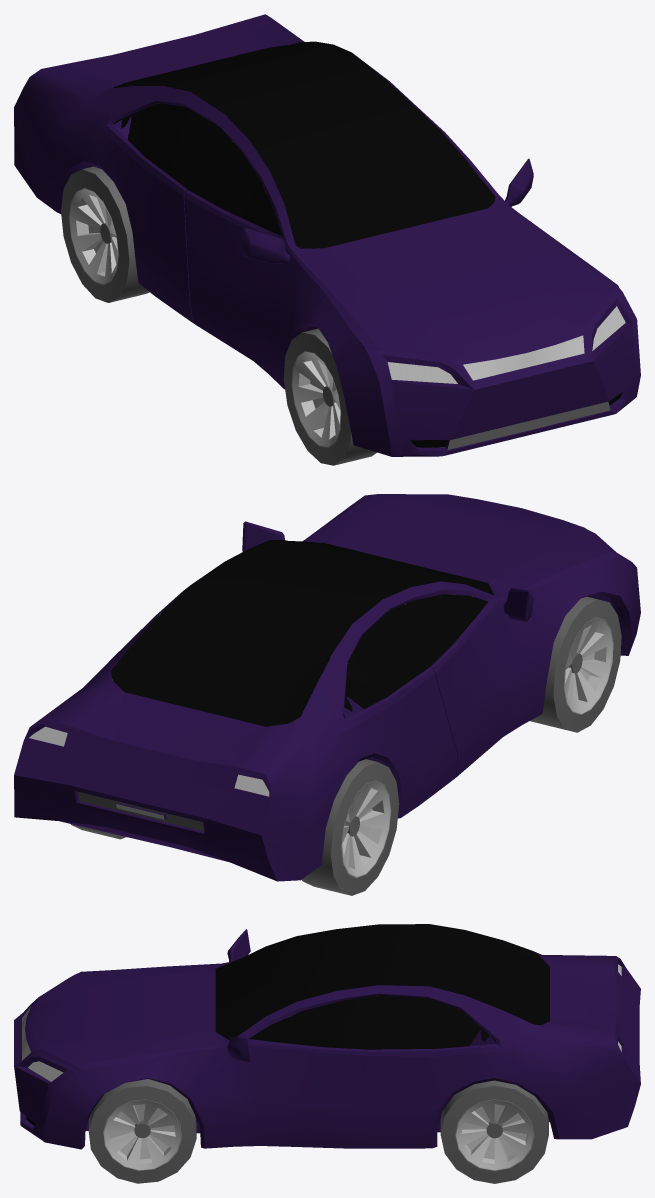
The model's file is Car.fbx.
The picture shows the model from 3 angles, top to bottom: view 1: azimuth 30°, elevation 25°; view 2: azimuth 150°, elevation 25°; view 3: azimuth 270°, elevation 25°; orthographic projection. The views are drawn at different scales.
Parts seen in each view (by area): view 1: color, car_A001; view 2: color, car_A001; view 3: color, car_A001.
Part boxes in pixels (left/top/right/bottom): color: left=14, top=14, right=640, bottom=456; car_A001: left=61, top=41, right=625, bottom=465; color: left=14, top=494, right=640, bottom=881; car_A001: left=29, top=540, right=621, bottom=895; color: left=14, top=929, right=640, bottom=1149; car_A001: left=22, top=924, right=621, bottom=1183.
Size of the model in its own units: 1.95 by 1.46 by 4.66.
